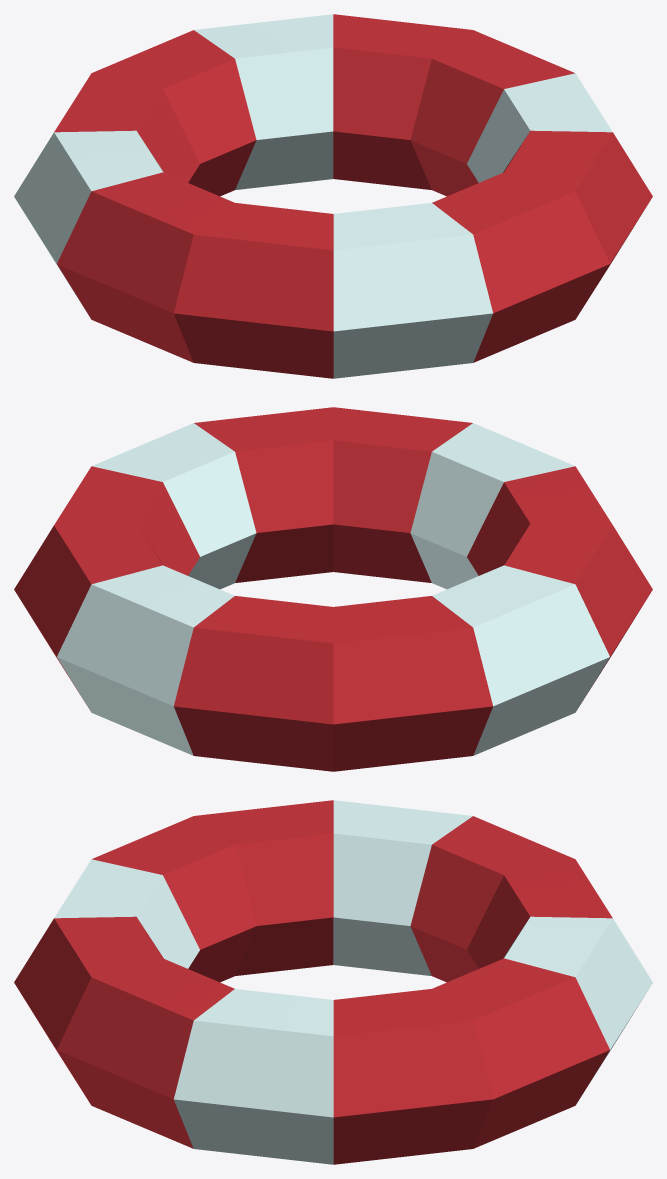
The model's file is lifebuoy.glb.
The picture shows the model from 3 angles, top to bottom: view 1: azimuth 30°, elevation 25°; view 2: azimuth 150°, elevation 25°; view 3: azimuth 270°, elevation 25°; orthographic projection.
Visible parts, largest first — view 1: lifebuoy; view 2: lifebuoy; view 3: lifebuoy.
Part boxes in pixels (x1,y1,x2,y2): lifebuoy: (14,14,652,378); lifebuoy: (14,407,652,771); lifebuoy: (14,800,652,1164).
Size of the model in its own units: 0.7911 by 0.1796 by 0.7911.
Materials: 1 (1 with a texture image).
